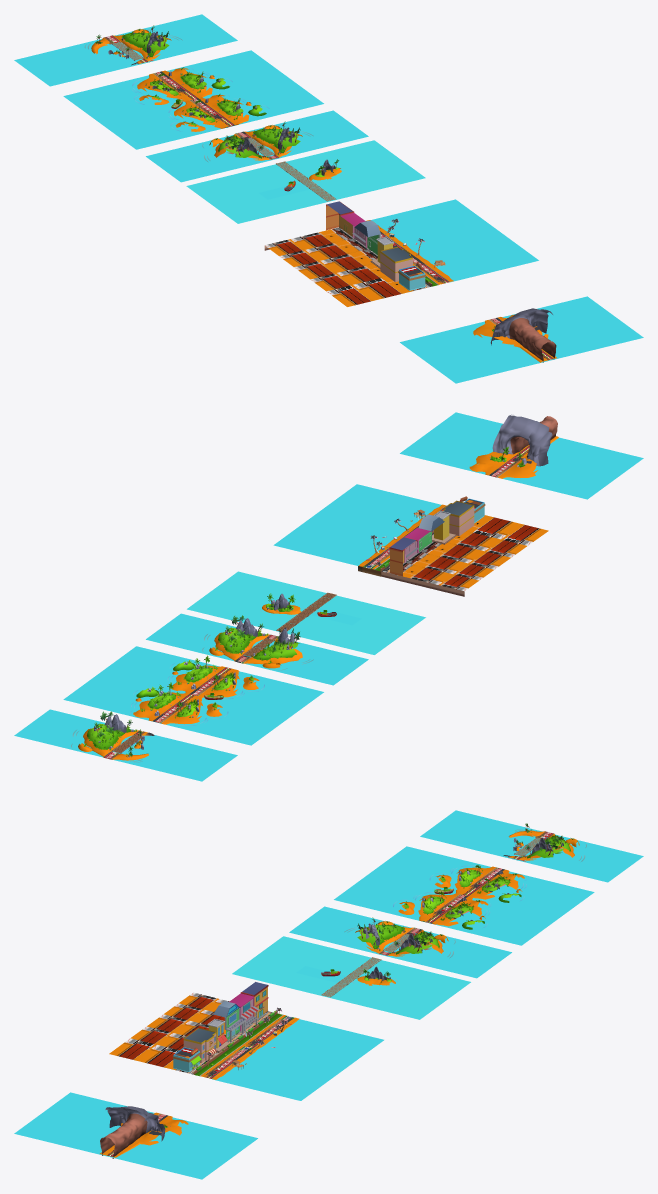
File: beach_Updated_New.fbx
The picture shows the model from 3 angles, top to bottom: view 1: azimuth 30°, elevation 25°; view 2: azimuth 150°, elevation 25°; view 3: azimuth 330°, elevation 25°; orthographic projection.
Visible parts, largest first — view 1: water2, water4__Unbaked_, water_unbaked_, water5_unbaked_, Ground_Baked_, water1, water3, buildings5__Unbaked_, Ground2, tuneel_unbaked_, grren2, green3 (+5 smaller); view 2: water2, water4__Unbaked_, water_unbaked_, Ground_Baked_, water5_unbaked_, water1, water3, buildings5__Unbaked_, Ground2, tuneel_unbaked_, green3, grren2 (+5 smaller); view 3: water2, water4__Unbaked_, water_unbaked_, water5_unbaked_, Ground_Baked_, water1, water3, buildings5__Unbaked_, Ground2, tuneel_unbaked_, grren2, green3 (+5 smaller).
Part boxes in pixels (x1,y1,x2,y2): water2: (63, 50, 323, 149); water4__Unbaked_: (186, 140, 425, 223); water_unbaked_: (400, 296, 643, 383); water5_unbaked_: (371, 199, 538, 282); Ground_Baked_: (264, 220, 453, 306); water1: (14, 14, 237, 86); water3: (146, 110, 368, 182); buildings5__Unbaked_: (326, 201, 445, 290); Ground2: (137, 68, 266, 131); tuneel_unbaked_: (490, 308, 556, 362); grren2: (132, 67, 269, 131); green3: (202, 121, 313, 162); water2: (63, 646, 323, 745); water4__Unbaked_: (187, 571, 425, 654); water_unbaked_: (400, 412, 643, 499); Ground_Baked_: (358, 504, 548, 596); water5_unbaked_: (273, 484, 441, 565); water1: (14, 709, 237, 781); water3: (146, 613, 368, 685); buildings5__Unbaked_: (366, 496, 485, 576); Ground2: (133, 661, 259, 724); tuneel_unbaked_: (487, 414, 557, 467); green3: (202, 615, 313, 670); grren2: (130, 655, 264, 725); water2: (334, 846, 594, 945); water4__Unbaked_: (232, 936, 470, 1019); water_unbaked_: (14, 1092, 257, 1179); water5_unbaked_: (212, 1019, 383, 1100); Ground_Baked_: (109, 992, 299, 1079); water1: (420, 810, 643, 882); water3: (289, 906, 511, 978); buildings5__Unbaked_: (172, 982, 291, 1072); Ground2: (398, 866, 524, 929); tuneel_unbaked_: (100, 1106, 170, 1158); grren2: (393, 865, 527, 927); green3: (344, 917, 455, 958).
Bounding box in the file's own units: 6304 × 1248 × 24741.
